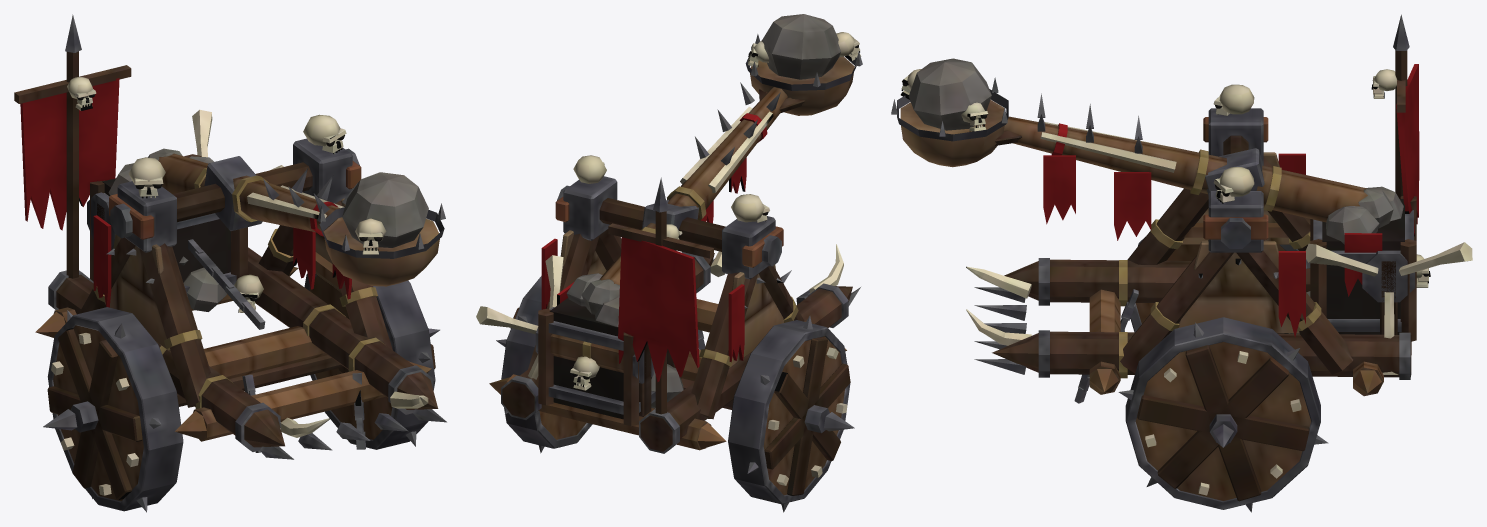
Rendered from catapult.glb.
The picture shows the model from 3 angles, left to right: view 1: azimuth 30°, elevation 25°; view 2: azimuth 150°, elevation 25°; view 3: azimuth 270°, elevation 25°; orthographic projection. The views are drawn at different scales.
Parts seen in each view (by area): view 1: Body, SiegeArm, WheelL, WheelR; view 2: Body, SiegeArm, WheelL, WheelR; view 3: Body, SiegeArm, WheelR, WheelL.
Boxes of the visible parts, x1,y1,x2,y2 form: Body: [14, 14, 446, 459]; SiegeArm: [90, 148, 445, 299]; WheelL: [43, 307, 183, 512]; WheelR: [304, 273, 439, 449]; Body: [476, 155, 860, 453]; SiegeArm: [538, 14, 862, 426]; WheelL: [728, 315, 854, 512]; WheelR: [496, 276, 592, 453]; Body: [966, 14, 1472, 403]; SiegeArm: [891, 58, 1430, 341]; WheelR: [1118, 317, 1328, 512]; WheelL: [1130, 236, 1298, 333].
Size of the model in its own units: 3.54 by 3.52 by 4.64.
Materials: 2 (2 with a texture image).
